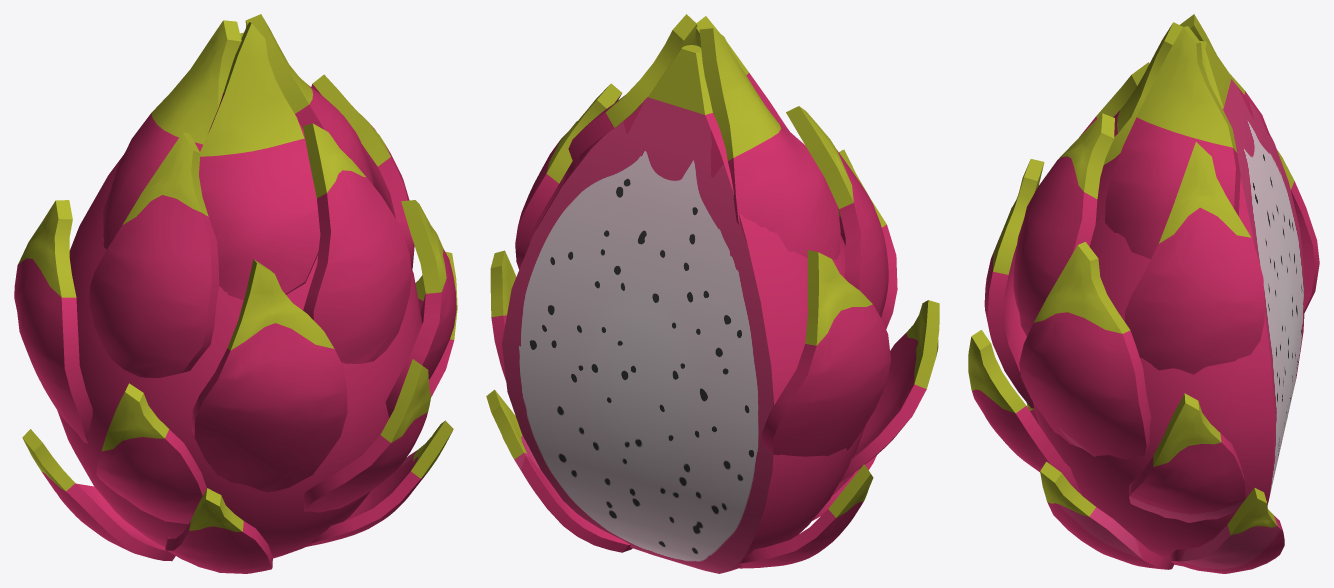
Rendered from Dragon Fruit.fbx.
3 renders of one model, left to right at view 1: azimuth 30°, elevation 25°; view 2: azimuth 150°, elevation 25°; view 3: azimuth 270°, elevation 25°, orthographic.
Parts seen in each view (by area): view 1: Dragon Fruit; view 2: Dragon Fruit; view 3: Dragon Fruit.
Boxes of the visible parts, <box> form: Dragon Fruit: <box>14,14,457,573</box>; Dragon Fruit: <box>486,14,939,573</box>; Dragon Fruit: <box>968,14,1319,573</box>.
Size of the model in its own units: 18.09 by 22.86 by 13.8.
